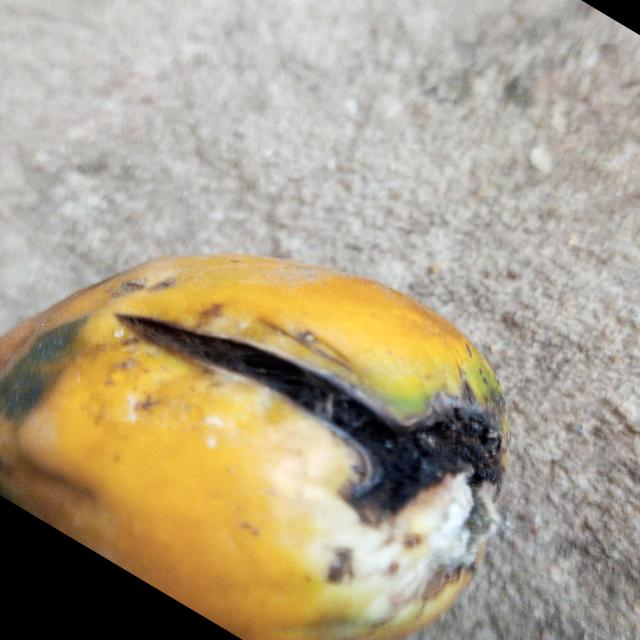damaged: (0, 255, 508, 640)
